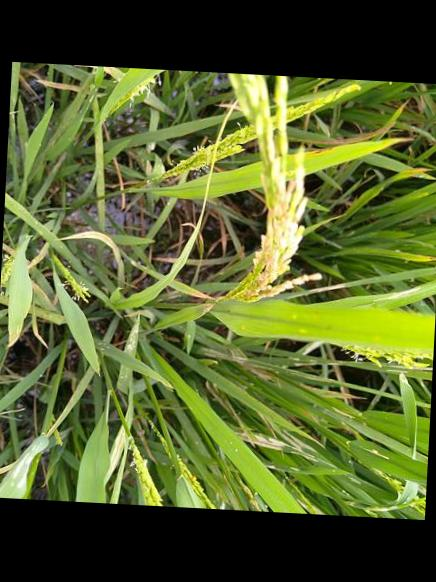Panicle Blight: (224, 179, 320, 302)
